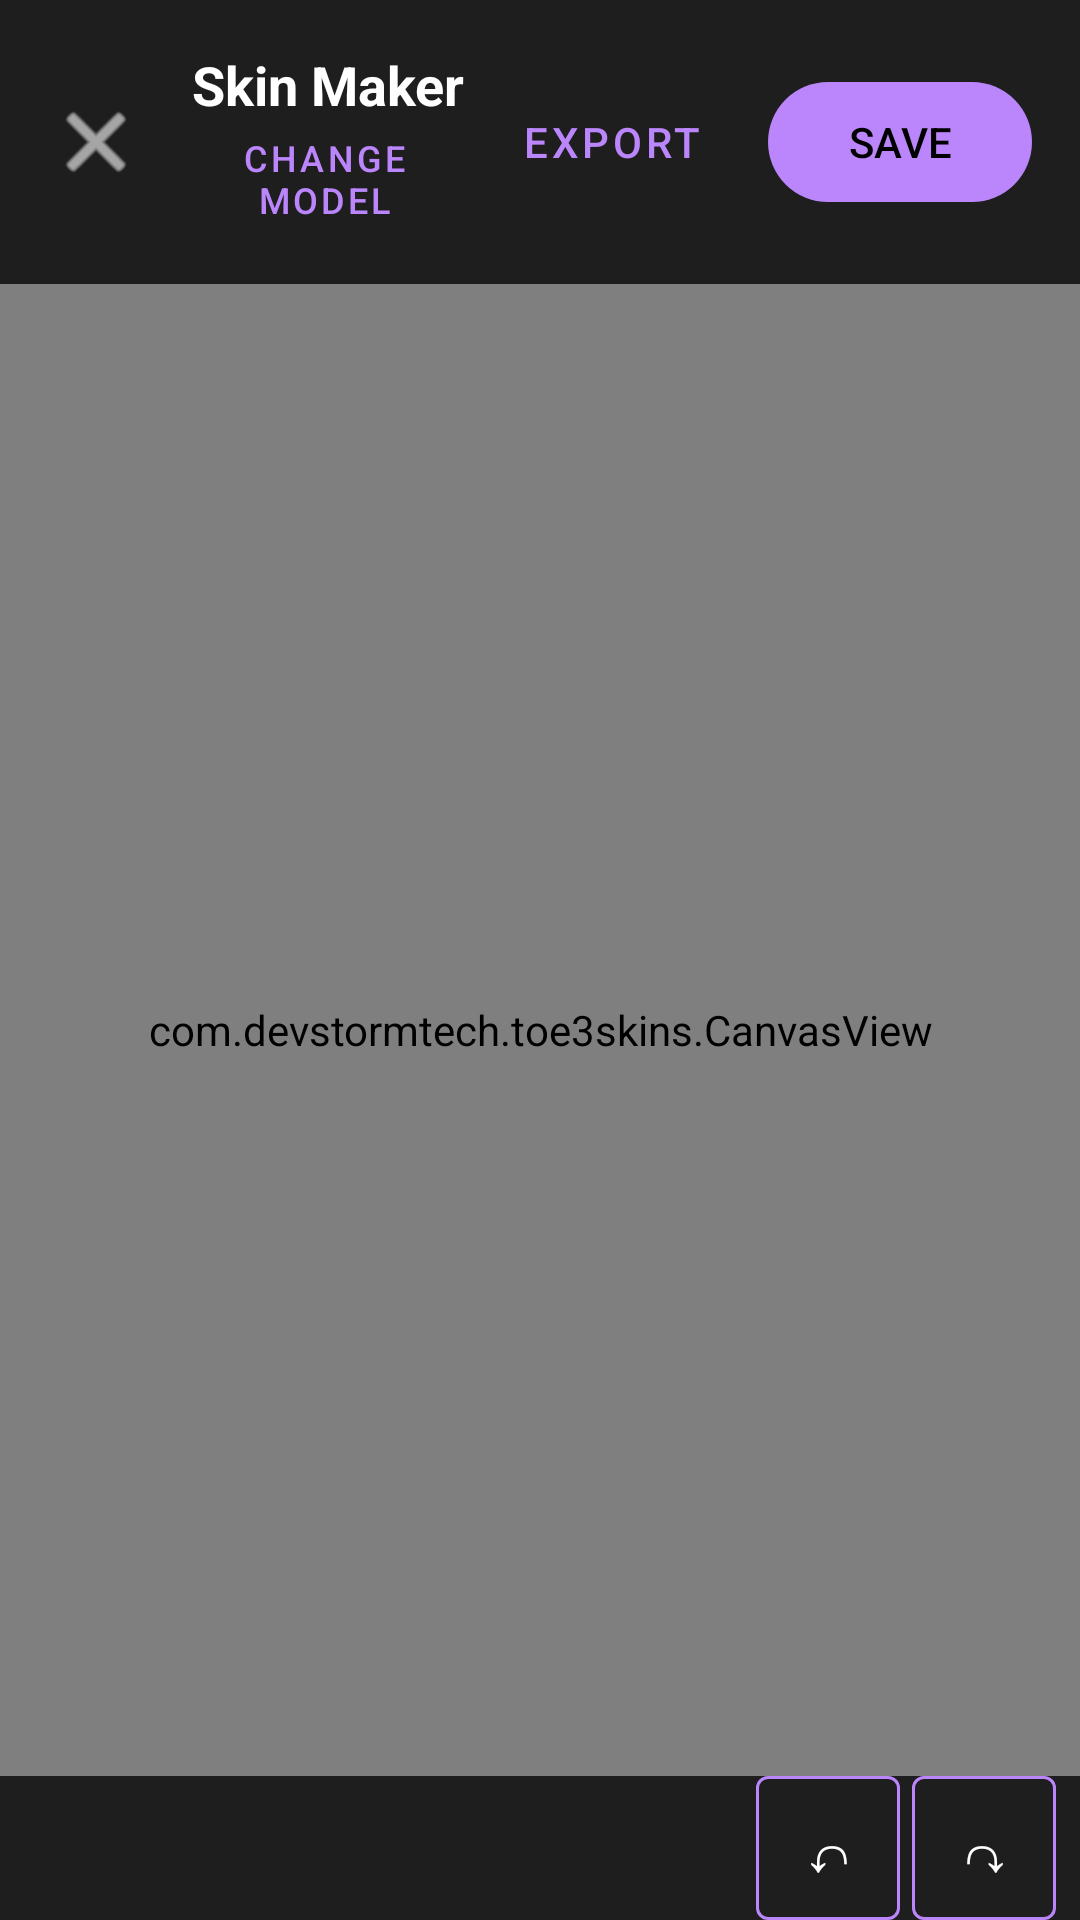

Screen size 1080*1920. Icon name, then its center in pixels as point (x, y):
Back: point (96, 142)
